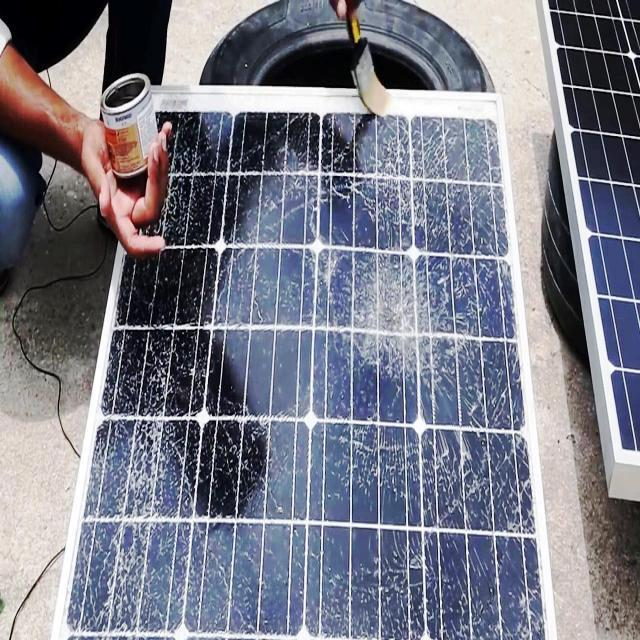faulty: (60, 87, 545, 639)
